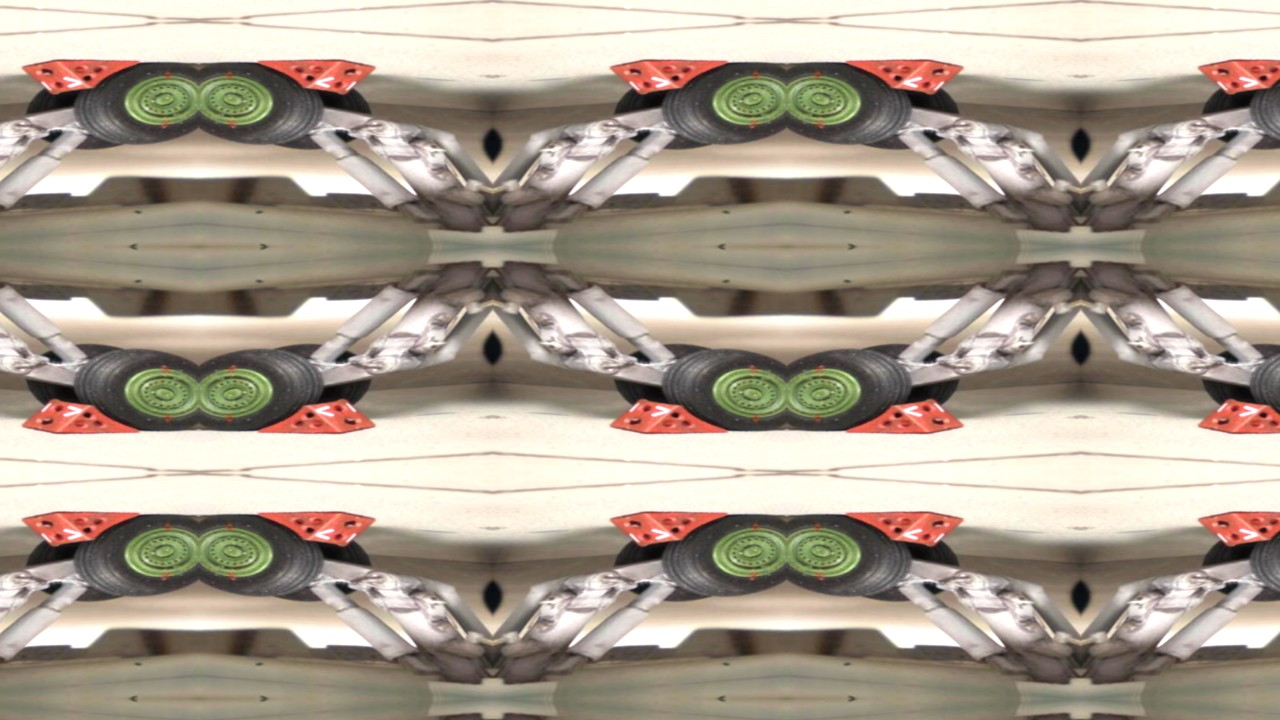chock: (6, 55, 146, 98), (250, 55, 390, 98), (595, 55, 735, 98), (839, 55, 979, 98), (6, 395, 146, 438), (250, 395, 390, 438), (595, 395, 735, 438), (839, 395, 979, 438), (6, 508, 146, 551), (250, 508, 390, 551), (595, 508, 735, 551), (839, 508, 979, 551), (1184, 55, 1280, 98), (1184, 395, 1280, 438), (1184, 508, 1280, 551)
wheel: (55, 58, 198, 149), (198, 58, 341, 149), (644, 58, 787, 149), (787, 58, 930, 149), (55, 344, 198, 435), (198, 344, 341, 435), (644, 344, 787, 435), (787, 344, 930, 435), (55, 511, 198, 602), (198, 511, 341, 602), (644, 511, 787, 602), (787, 511, 930, 602), (1233, 58, 1280, 149), (1233, 344, 1280, 435), (1233, 511, 1280, 602)
